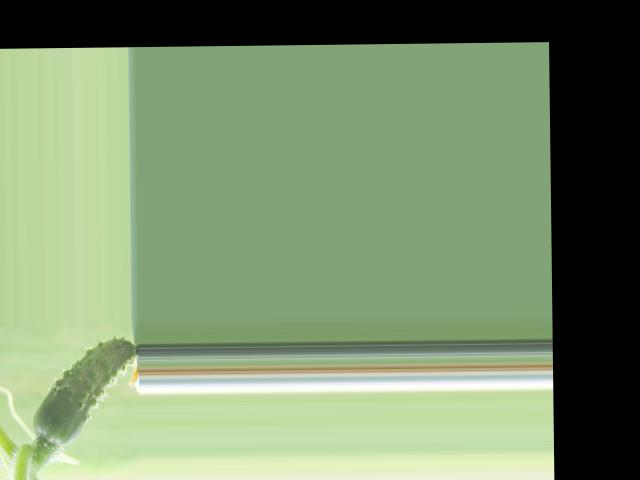cucumber: (30, 337, 136, 445)
